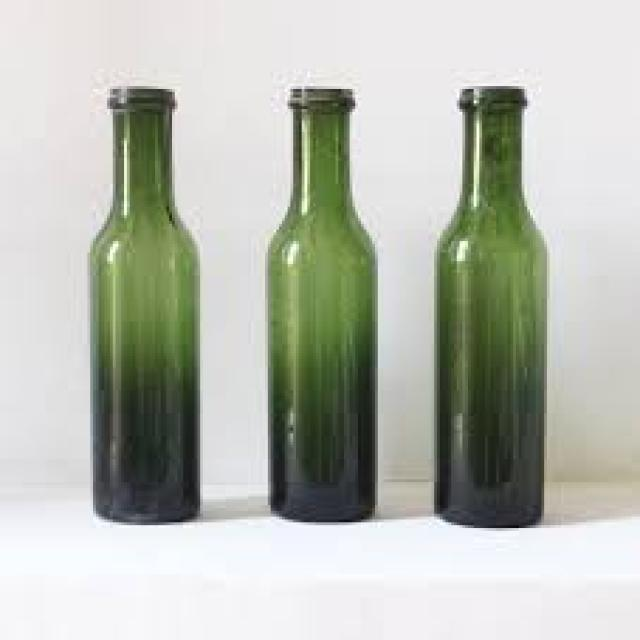glass: (85, 86, 198, 520), (265, 86, 375, 520), (435, 86, 542, 525)
